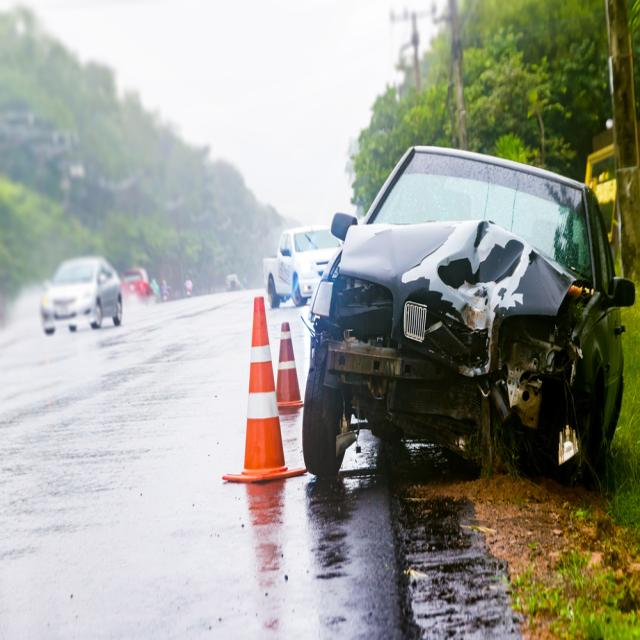Accident: (301, 138, 635, 501)
